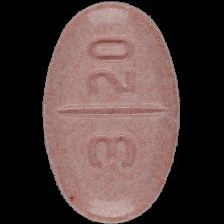50436-7075: (0, 0, 224, 224)
